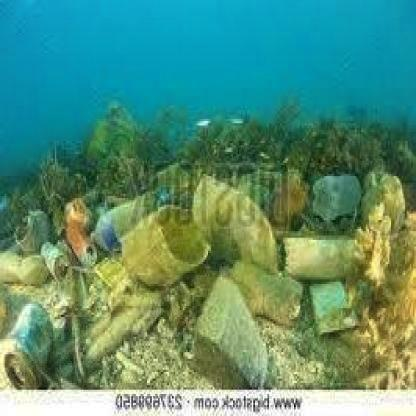can: (2, 295, 60, 390), (63, 205, 97, 264), (38, 236, 74, 286)
pbottle: (122, 207, 208, 286), (225, 258, 302, 326), (281, 229, 363, 284), (89, 190, 158, 245), (308, 170, 360, 232)
